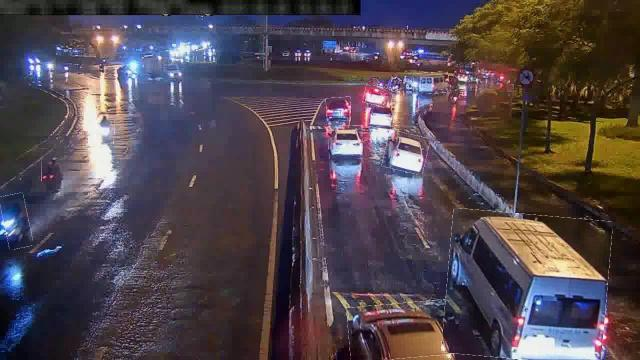Bike: (2, 194, 30, 250), (42, 148, 60, 186), (96, 112, 115, 148)
Bus: (444, 211, 610, 359), (413, 72, 449, 94)
Car: (348, 301, 454, 359), (384, 132, 428, 172), (329, 125, 363, 159), (366, 104, 394, 128), (326, 97, 352, 121), (363, 86, 392, 106)
